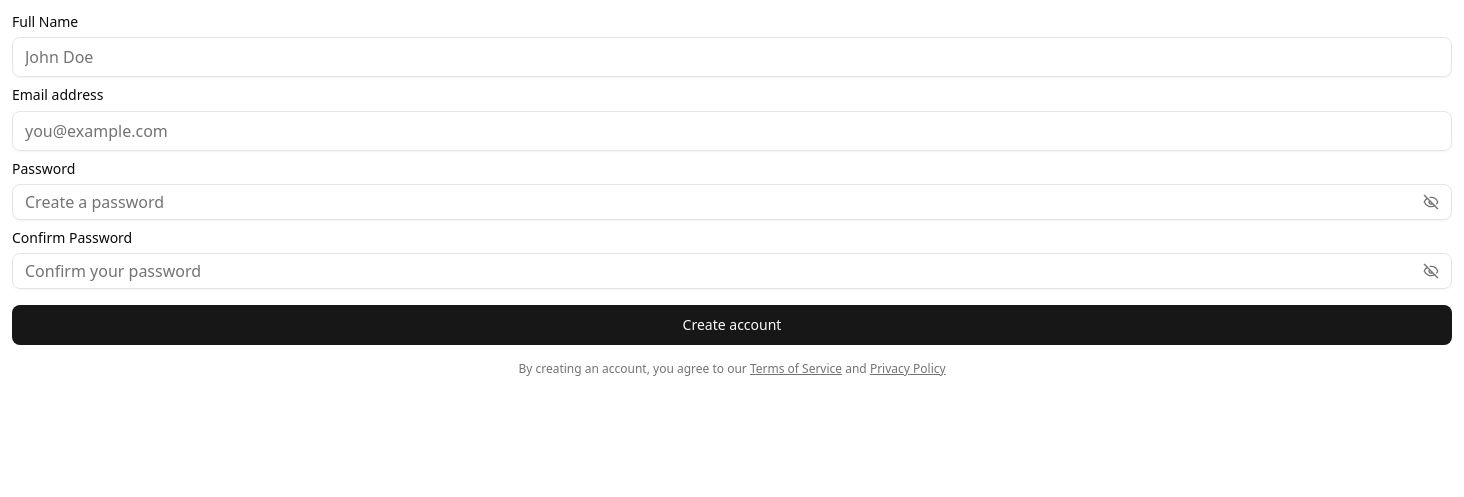
Test: RegisterForm › shows validation error for short username
In the field labelled "Full Name": (732,57) [12,37,1452,77], type "J"
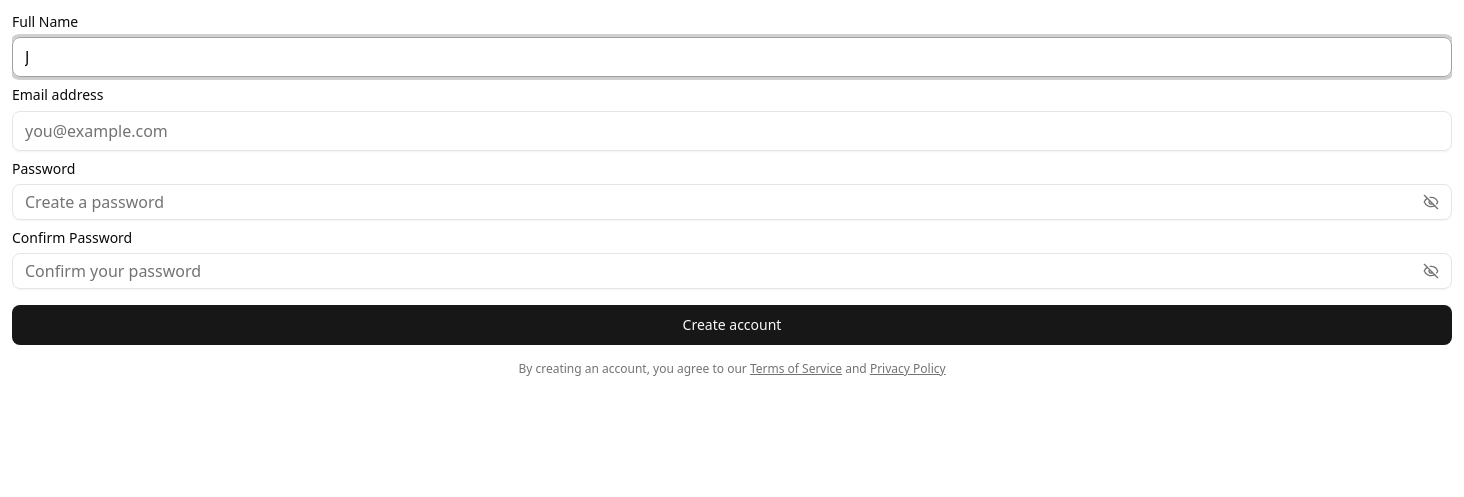
Click the button "Create account": (732,325) [12,305,1452,345]
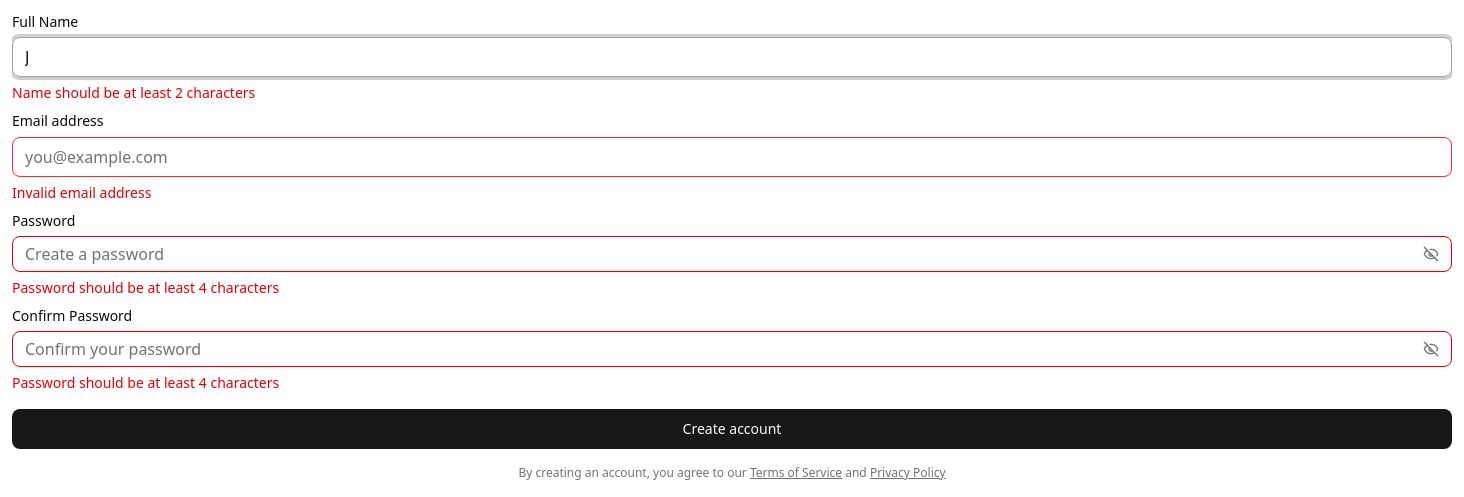
Now the text "Name should be at least 2 characters" is shown, box [12,83,255,102]
